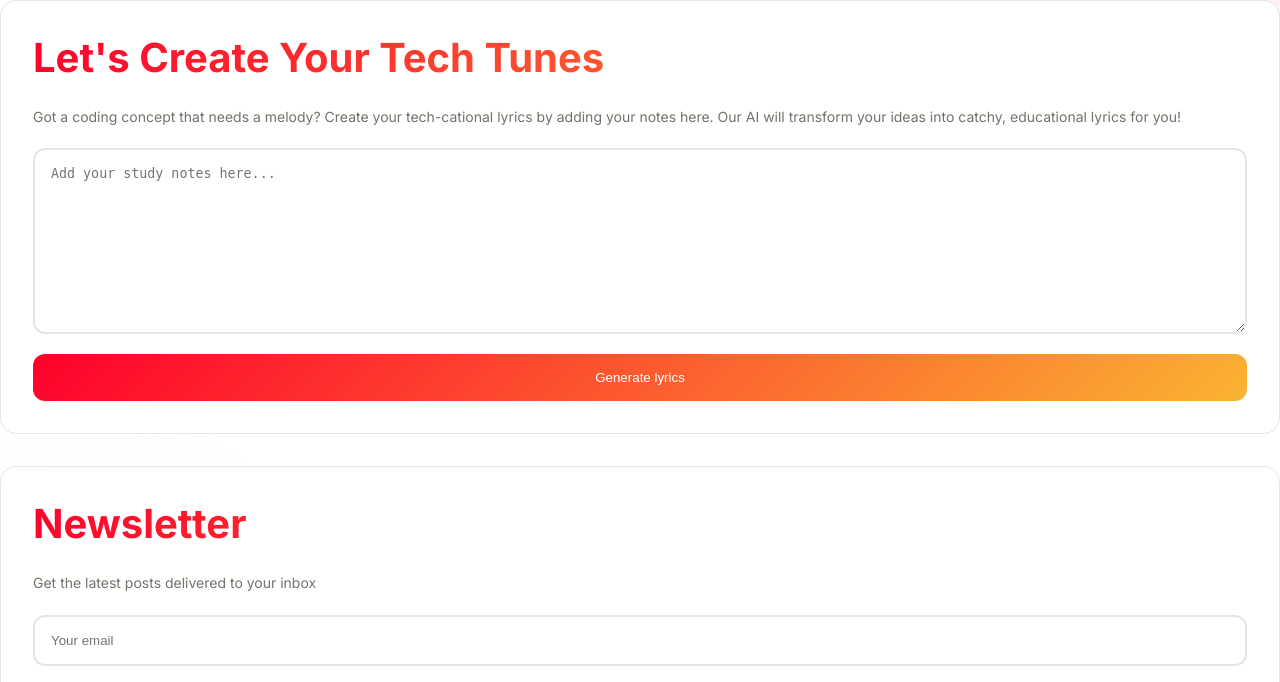
Test case: Sidebar Component › handles error response correctly
In the text box with placeholder "Add your study notes here...": (640, 241) [33, 148, 1247, 334], type "Error test"
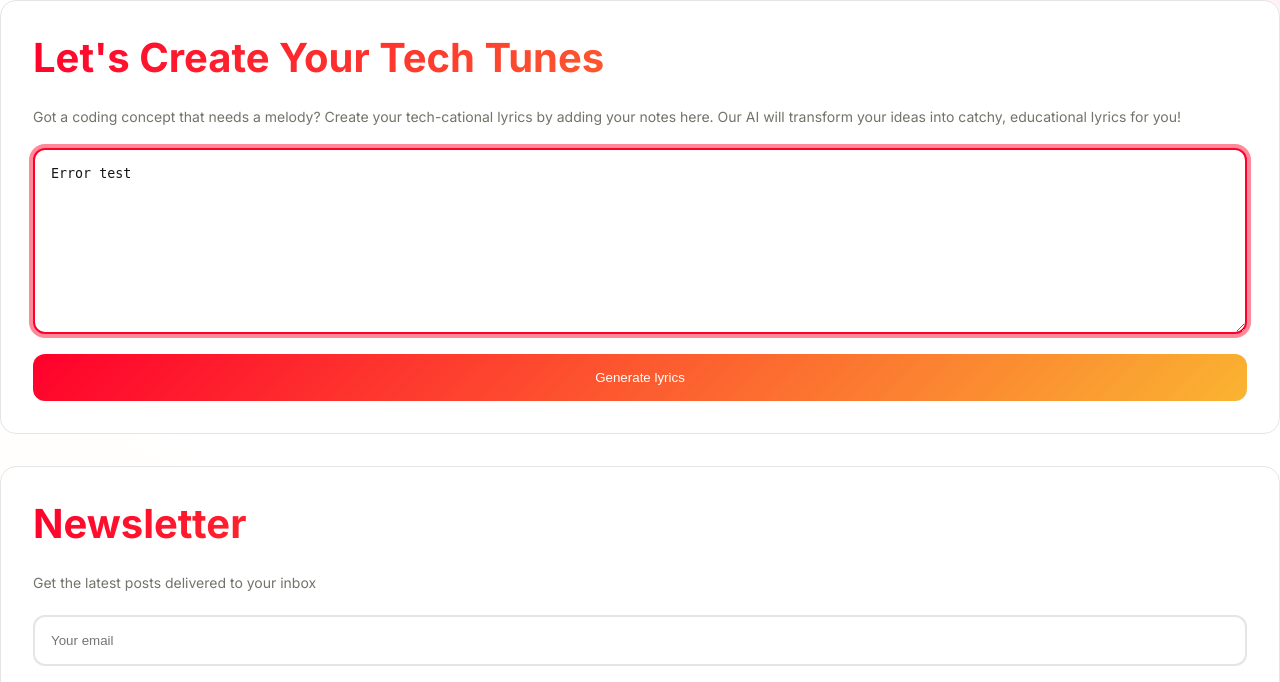
Click the button "Generate lyrics": (640, 378) [33, 354, 1247, 401]
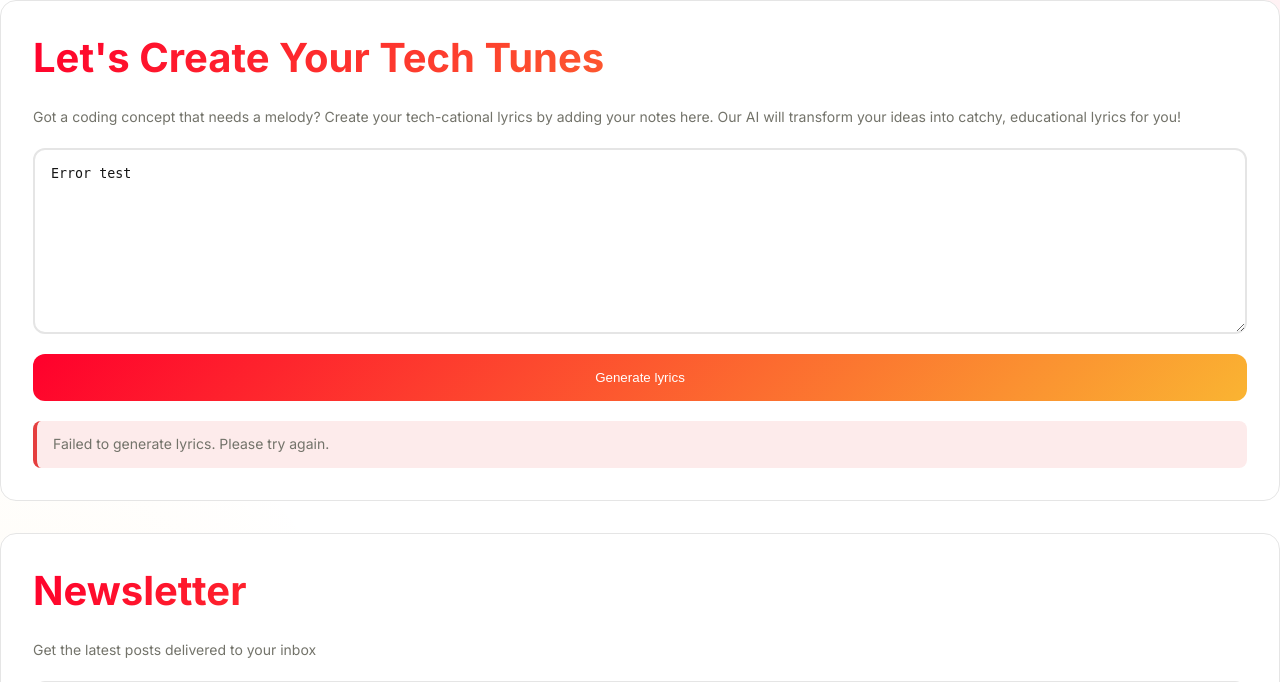
expect the text "Failed to generate lyrics. Please try again." is shown: met, box [33, 421, 1247, 468]
